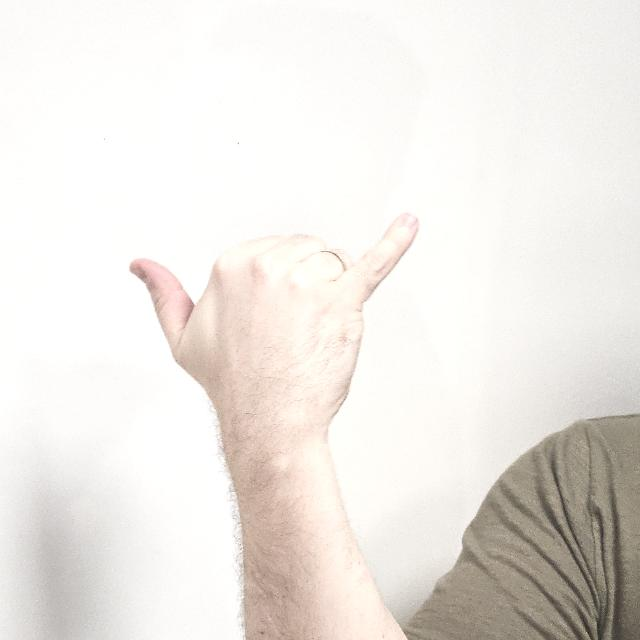Direita: (127, 193, 421, 463)
